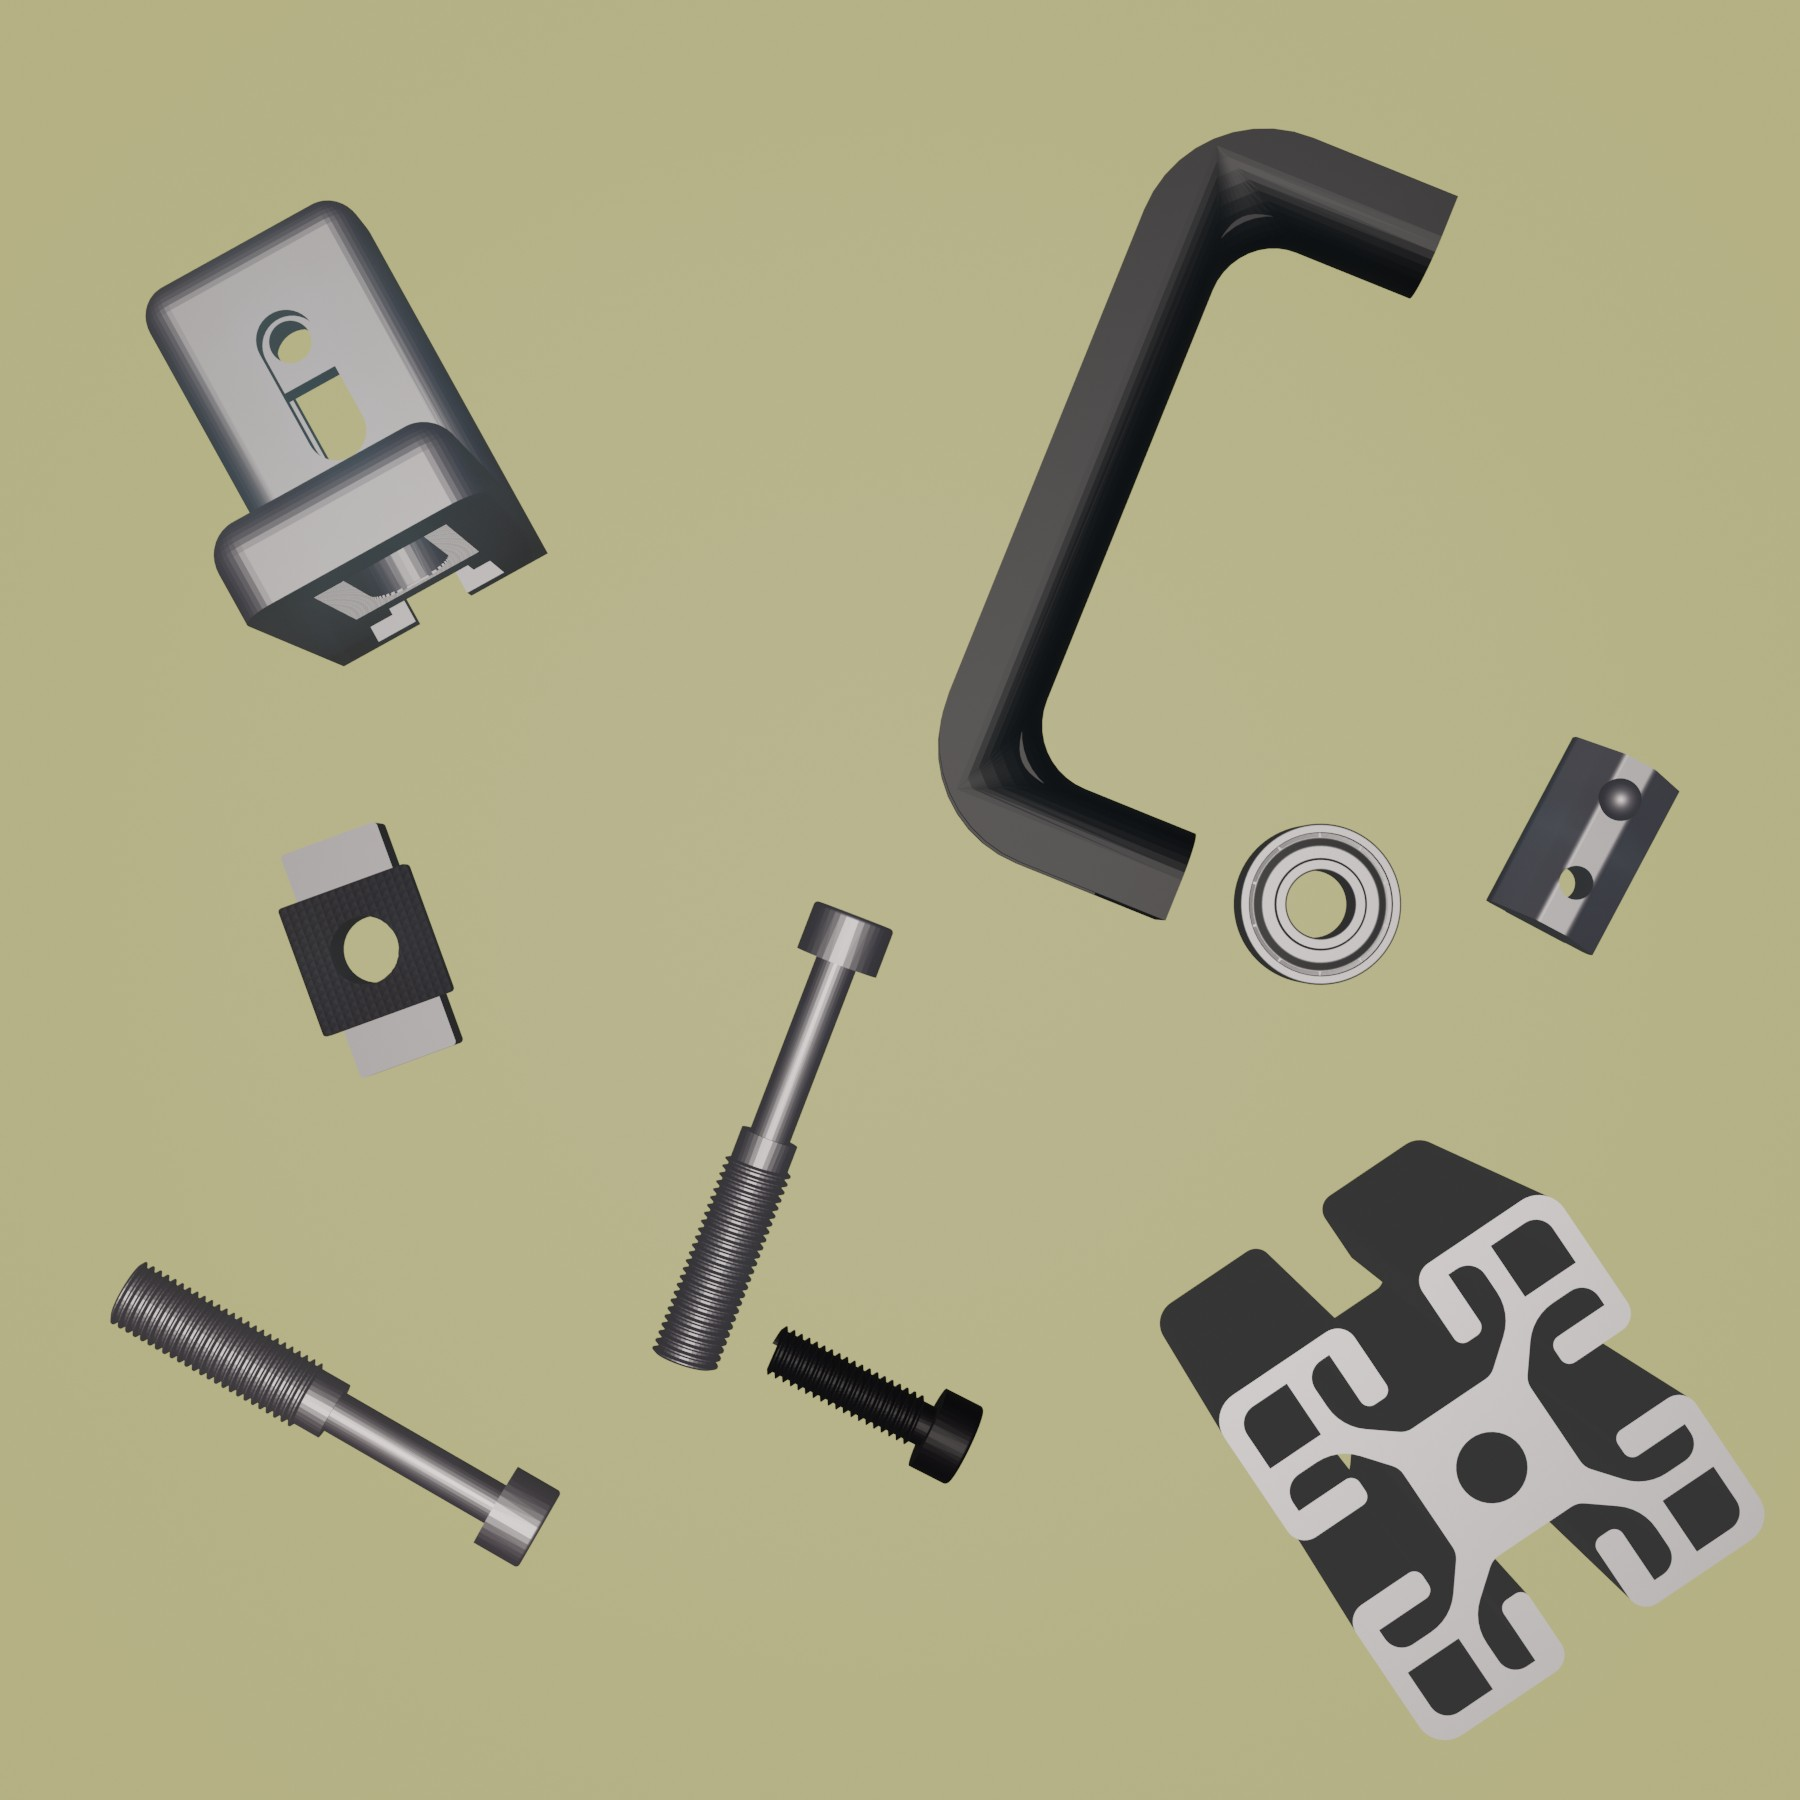Aluminium Extension: (1159, 1136, 1767, 1746)
Ball Bearing: (1231, 819, 1404, 989)
Multiwinkel: (142, 198, 547, 668)
Pull Handle: (935, 127, 1460, 921)
Shoulder Socket Head Cap Screw: (109, 1261, 562, 1569), (649, 897, 897, 1375)
Socket Head Cap Screw: (762, 1329, 986, 1487)
T Nut Square: (274, 819, 466, 1080)
T Spring Nut: (1482, 734, 1681, 958)
